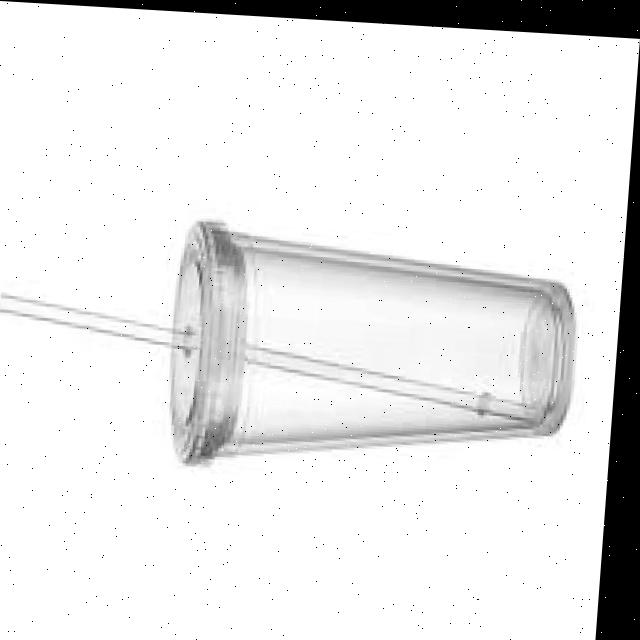cup: (152, 192, 629, 508)
